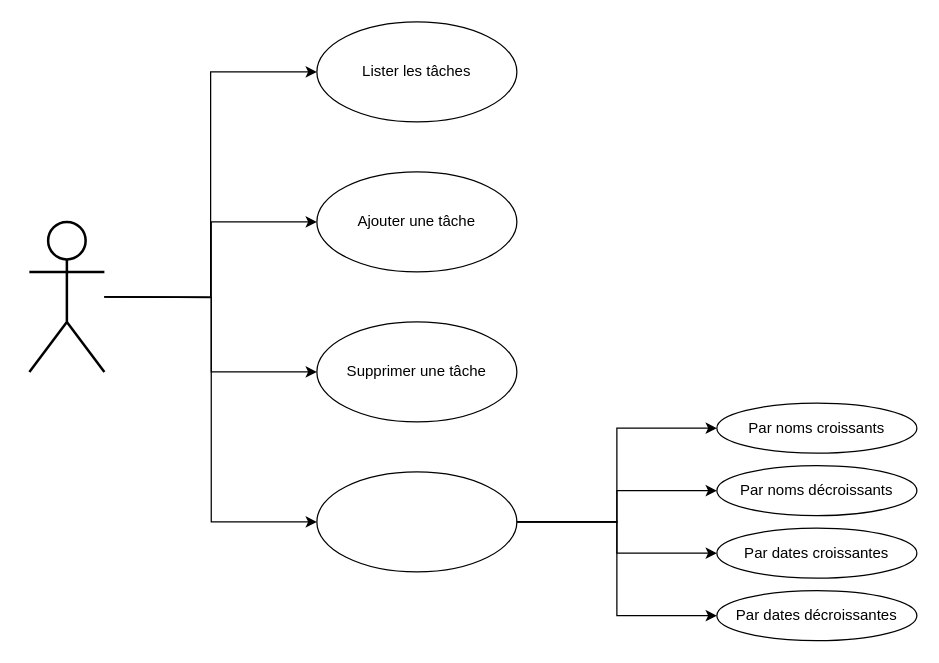
The diagram is 939 pixels wide and 663 high, and some of its shapes have lost their labels. Each missing label, with the centre of its shape:
"Collaborateur" belongs at (66,296).
"Trier les tâches" belongs at (416,521).
